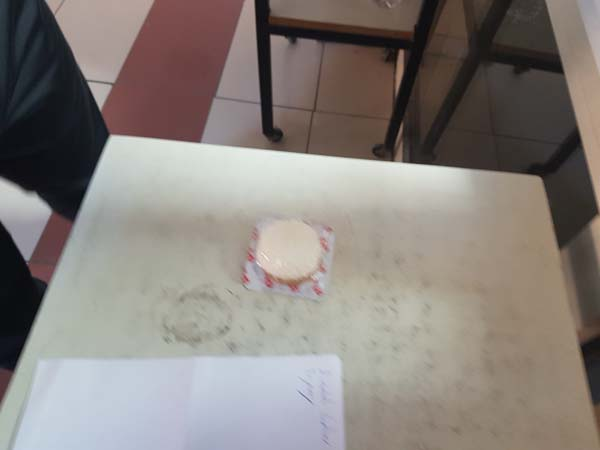etipuf: (244, 212, 334, 296)
